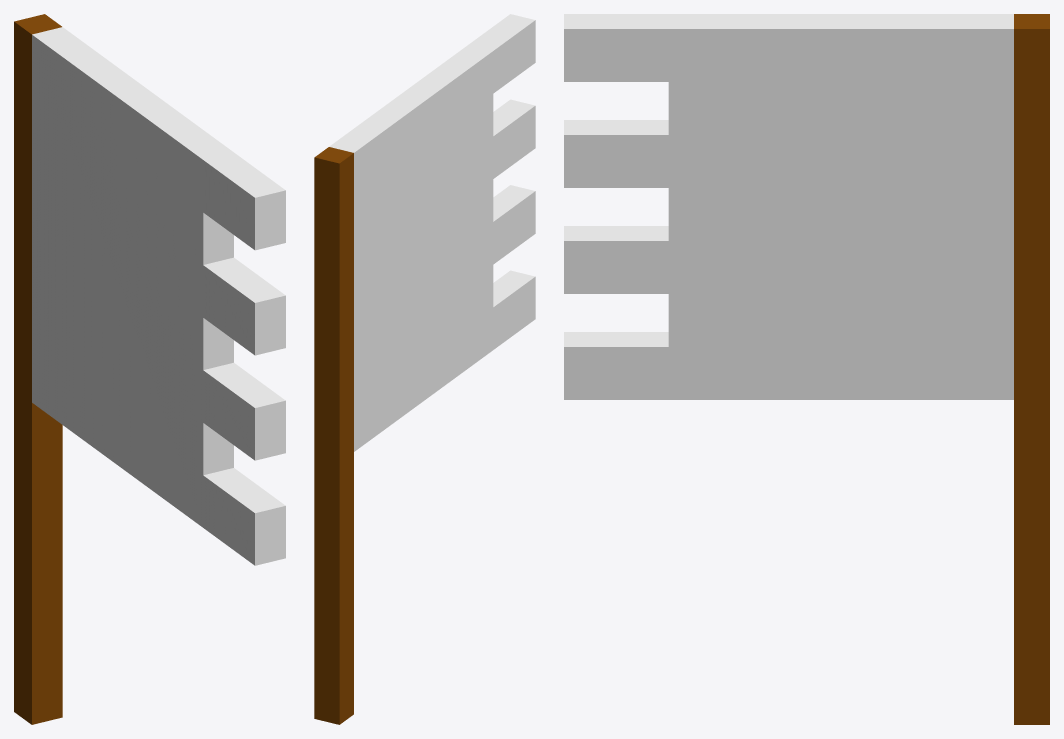
The model's file is Flag03.obj.
3 views of the same model, side by side, from view 1: azimuth 30°, elevation 25°; view 2: azimuth 150°, elevation 25°; view 3: azimuth 270°, elevation 25° (orthographic). The views are drawn at different scales.
Parts seen in each view (by area): view 1: Flag03; view 2: Flag03; view 3: Flag03.
Part boxes in pixels (left/top/right/bottom): Flag03: left=14, top=14, right=285, bottom=724; Flag03: left=314, top=14, right=535, bottom=724; Flag03: left=564, top=14, right=1049, bottom=724.
Bounding box in the file's own units: 0.2 × 4.28 × 2.71.
Materials: 2 (2 with a texture image).
